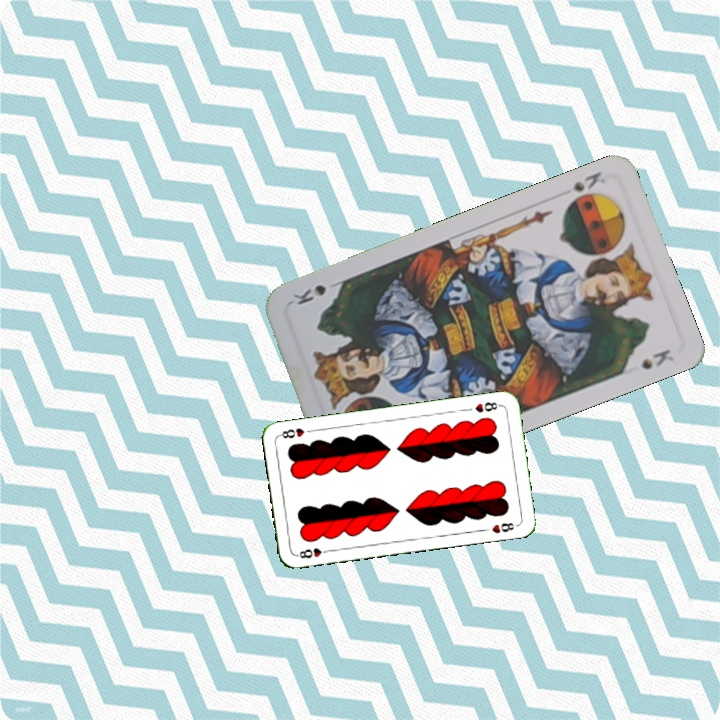H8: (293, 544, 333, 561), (471, 398, 504, 415)
SK: (569, 167, 608, 195)
